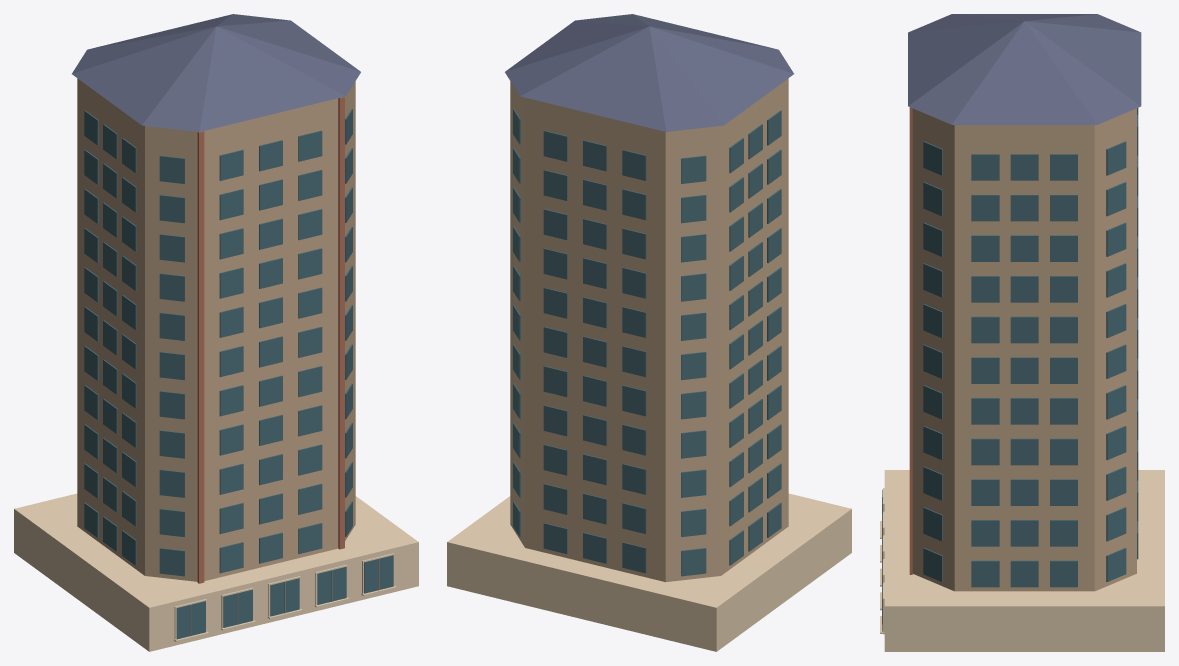
The model's file is residential-tower-low-poly.glb.
3 renders of one model, left to right at view 1: azimuth 30°, elevation 25°; view 2: azimuth 150°, elevation 25°; view 3: azimuth 270°, elevation 25°, orthographic. The views are drawn at different scales.
Visible parts, largest first — view 1: residential-tower-low-poly; view 2: residential-tower-low-poly; view 3: residential-tower-low-poly.
Part boxes in pixels (box(x1,y1,x2,y2)): residential-tower-low-poly: box(14, 14, 418, 651); residential-tower-low-poly: box(447, 14, 851, 651); residential-tower-low-poly: box(880, 14, 1164, 651).
Bounding box in the file's own units: 23 × 44.3 × 20.32.
